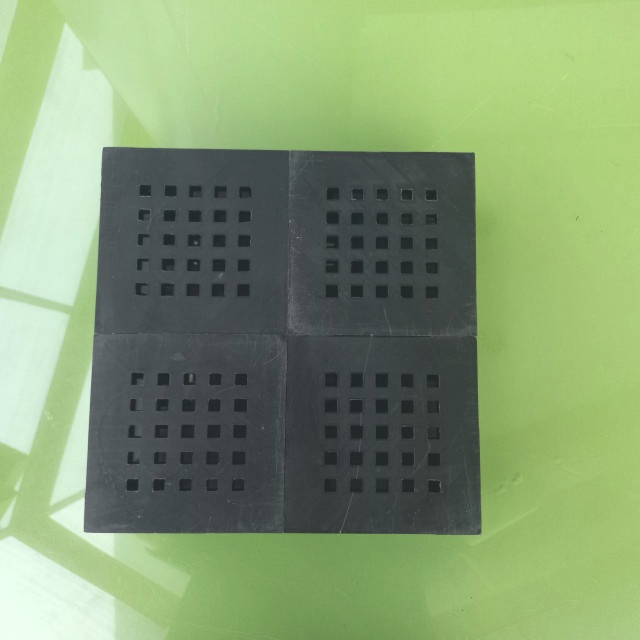pallet: (65, 147, 490, 544)
